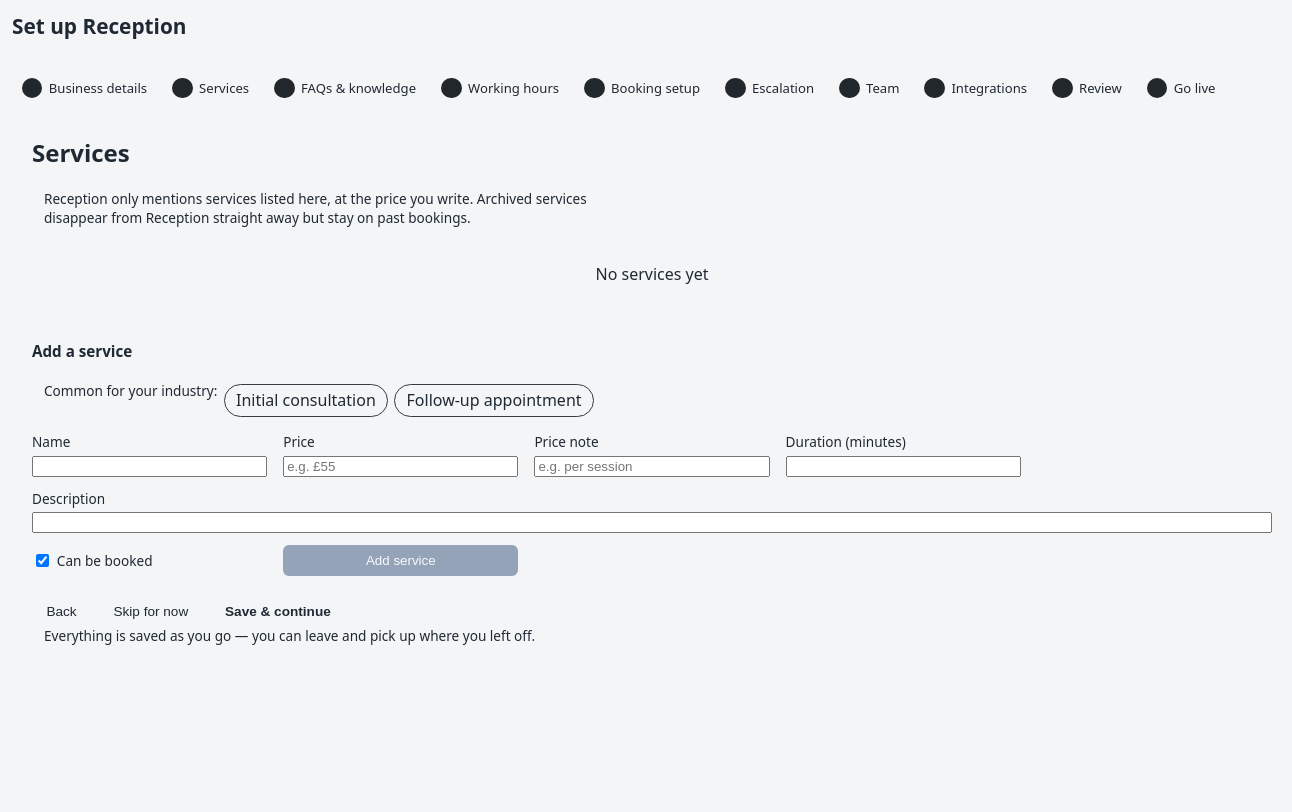
Test: setup wizard › starts empty, and suggests services and questions without inventing prices or answers
Expected: the text with test id "services-empty" reads "No services yet", [596,263,708,285]
Click the button "Initial consultation": {"x": 306, "y": 400} [224,384,388,417]
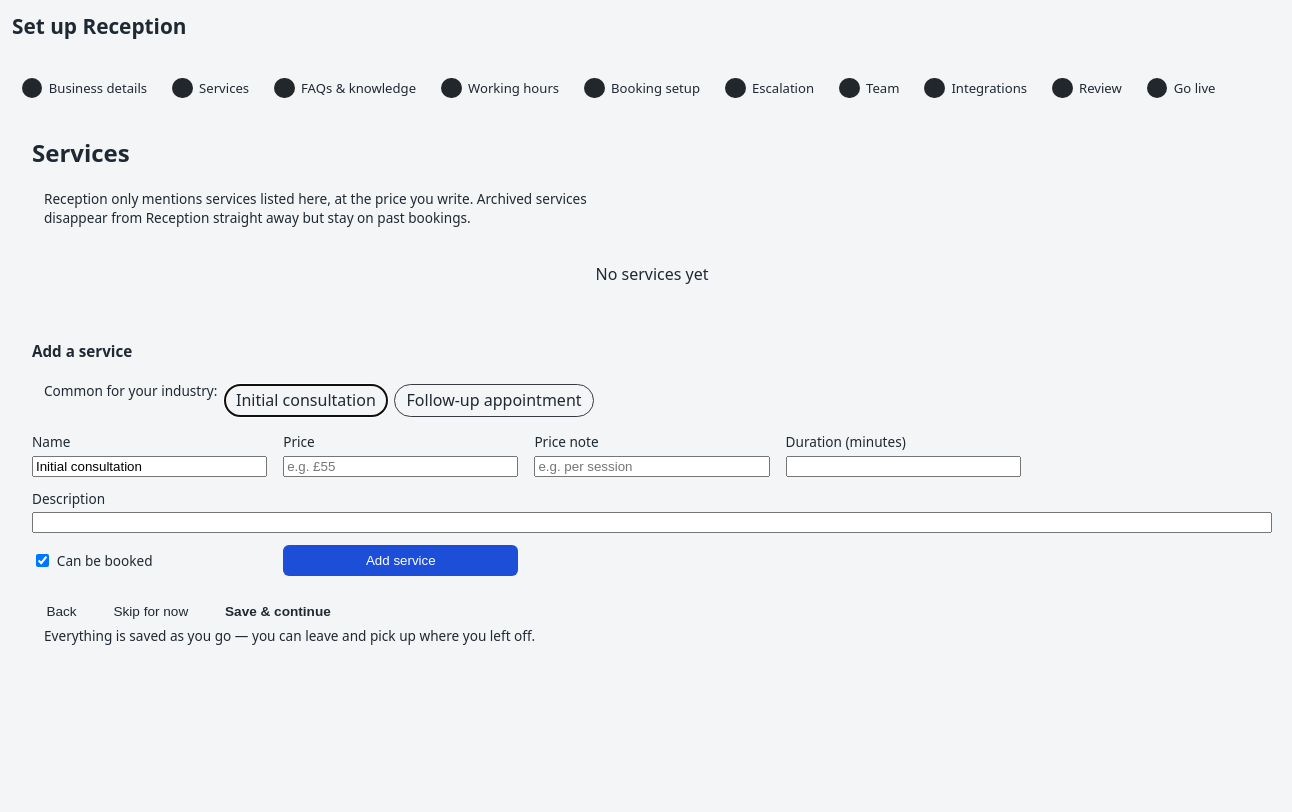
Expected: the field named "Service price" is empty, [283,456,518,477]
Now the field named "Service name" holds "Initial consultation", box [32,456,267,477]
